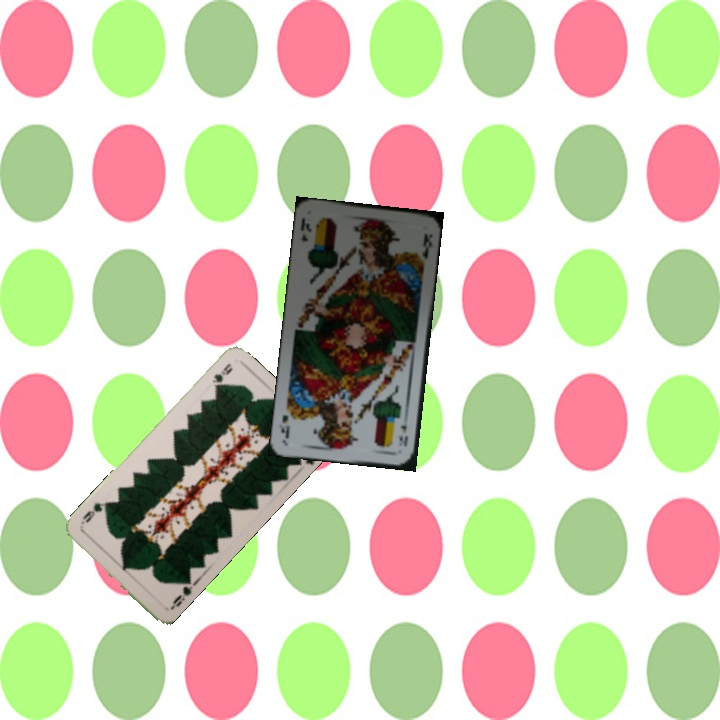EK: (395, 413, 410, 449), (297, 213, 314, 244)
G9: (166, 577, 197, 612), (208, 359, 235, 392)
